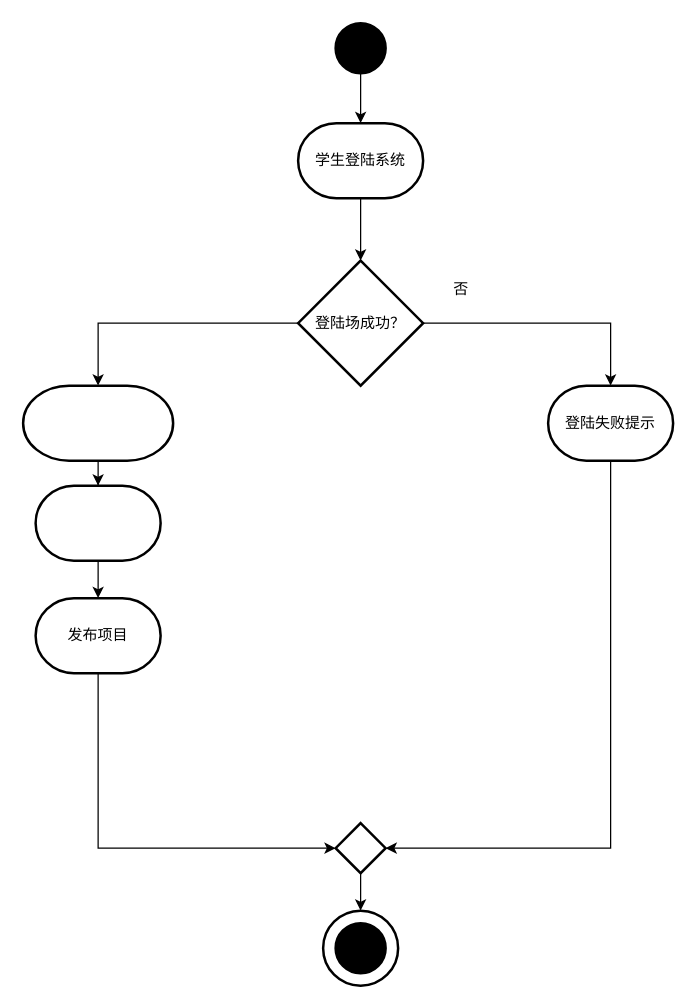
The diagram is 695 pixels wide and 1008 high, and some of its shapes have lost their labels. The centre of each missing label's shape, as x and y in pixels:
"填写项目信息" goes at (97,522).
"导航至“创建项目”页面" goes at (97,422).
